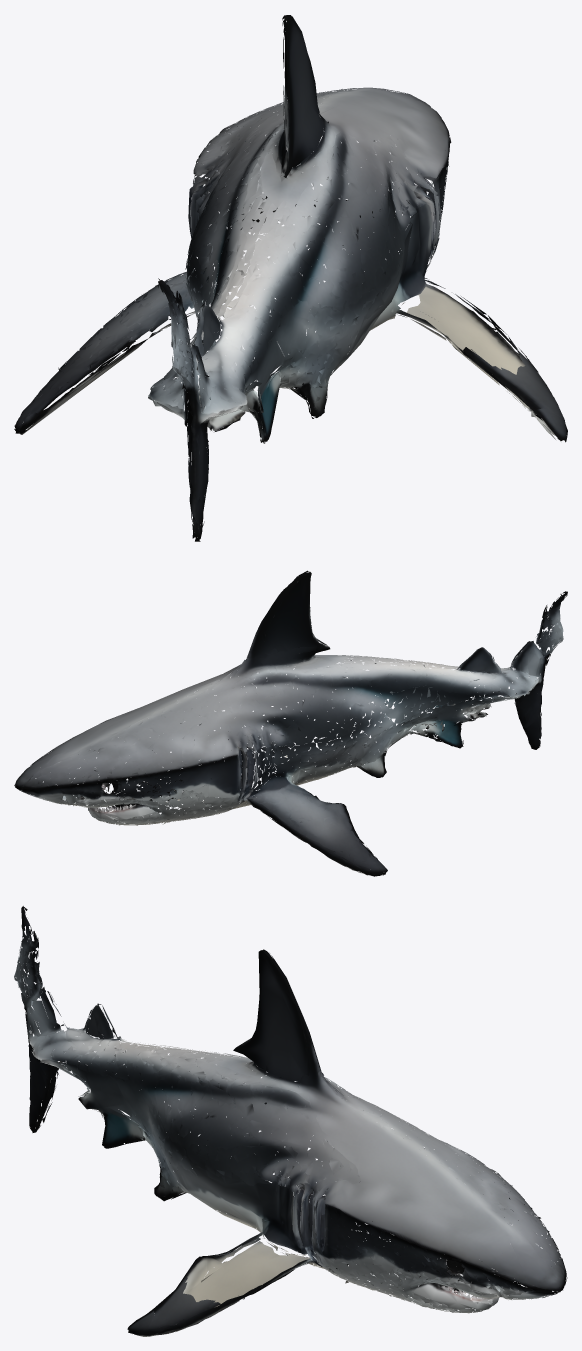
File: shark_1788467778_37597372.glb
3 renders of one model, top to bottom at view 1: azimuth 30°, elevation 25°; view 2: azimuth 150°, elevation 25°; view 3: azimuth 270°, elevation 25°, orthographic. The views are drawn at different scales.
Visible parts, largest first — view 1: Hero; view 2: Hero; view 3: Hero.
Part boxes in pixels (x1,y1,x2,y2): Hero: (14, 15, 567, 541); Hero: (14, 570, 567, 876); Hero: (14, 906, 567, 1336).
Size of the model in its own units: 2.47 by 1.66 by 2.61.
1 material, 1 textured.
